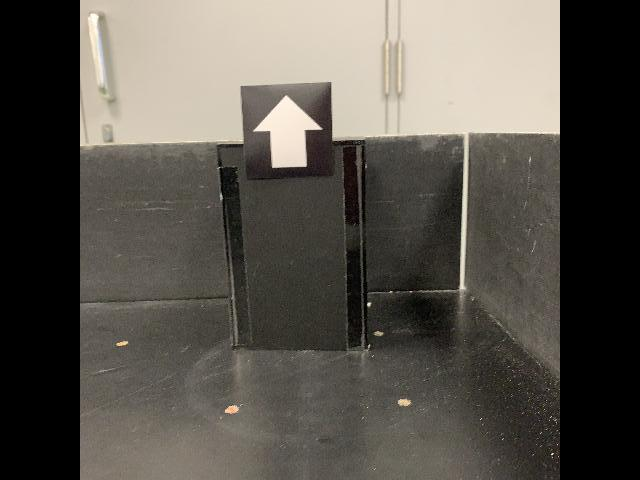up: (239, 81, 335, 182)
